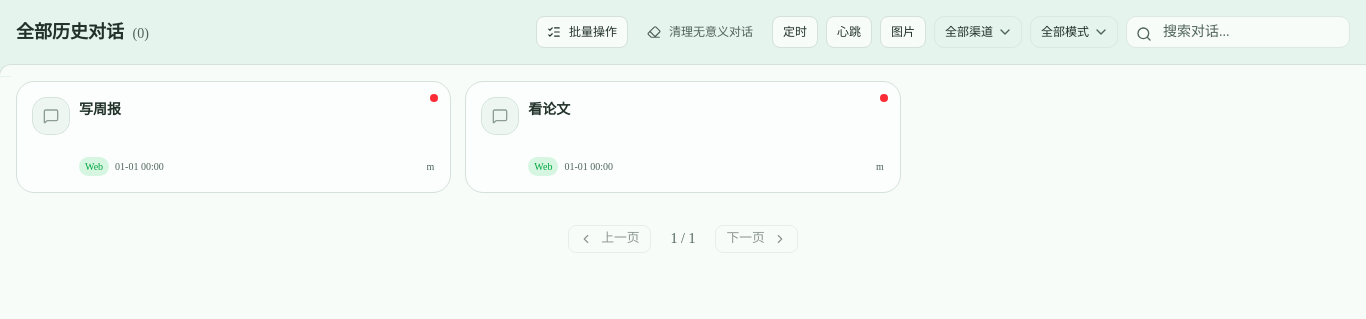
全部对话页 · 批量操作 › 进入批量模式后点卡片是选中，不再走预览
The image size is (1366, 319).
Expected: the heading "写周报" is shown, [79,102,121,117]
Click the button titled "进入批量操作" at (582, 32), box [536,16,628,48]
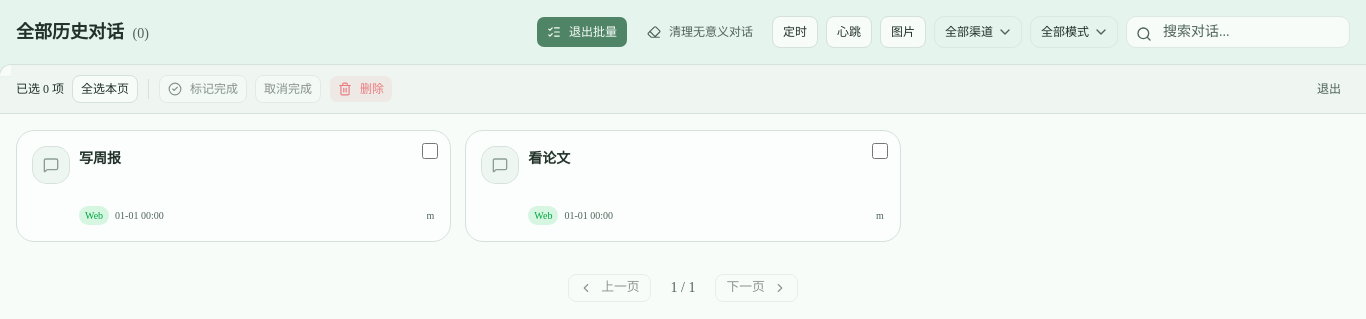
Expected: the text "已选 0 项" is shown, [16,81,64,97]
Click the heading "写周报" at (100, 158), box [79,151,121,166]
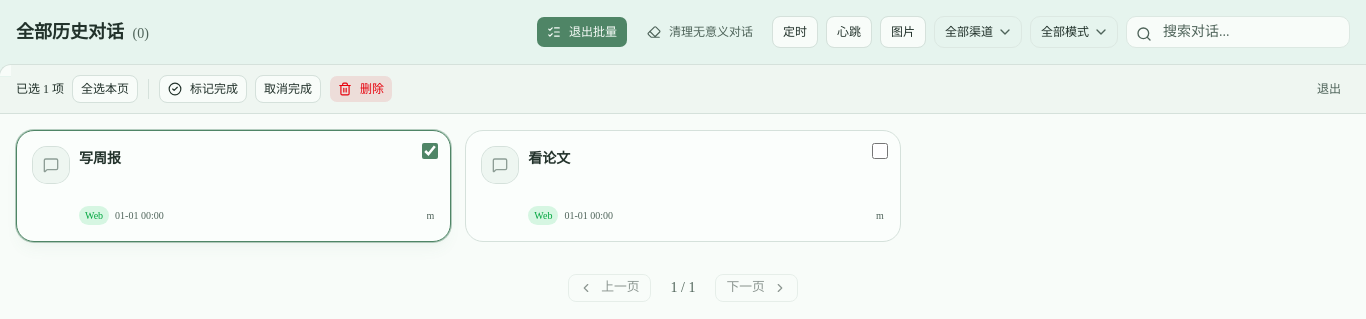
Expected: the text "已选 1 项" is shown, [16,81,64,97]
